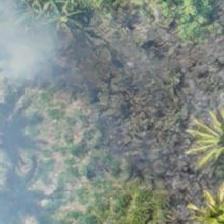coconut_tree: (175, 95, 223, 185)
